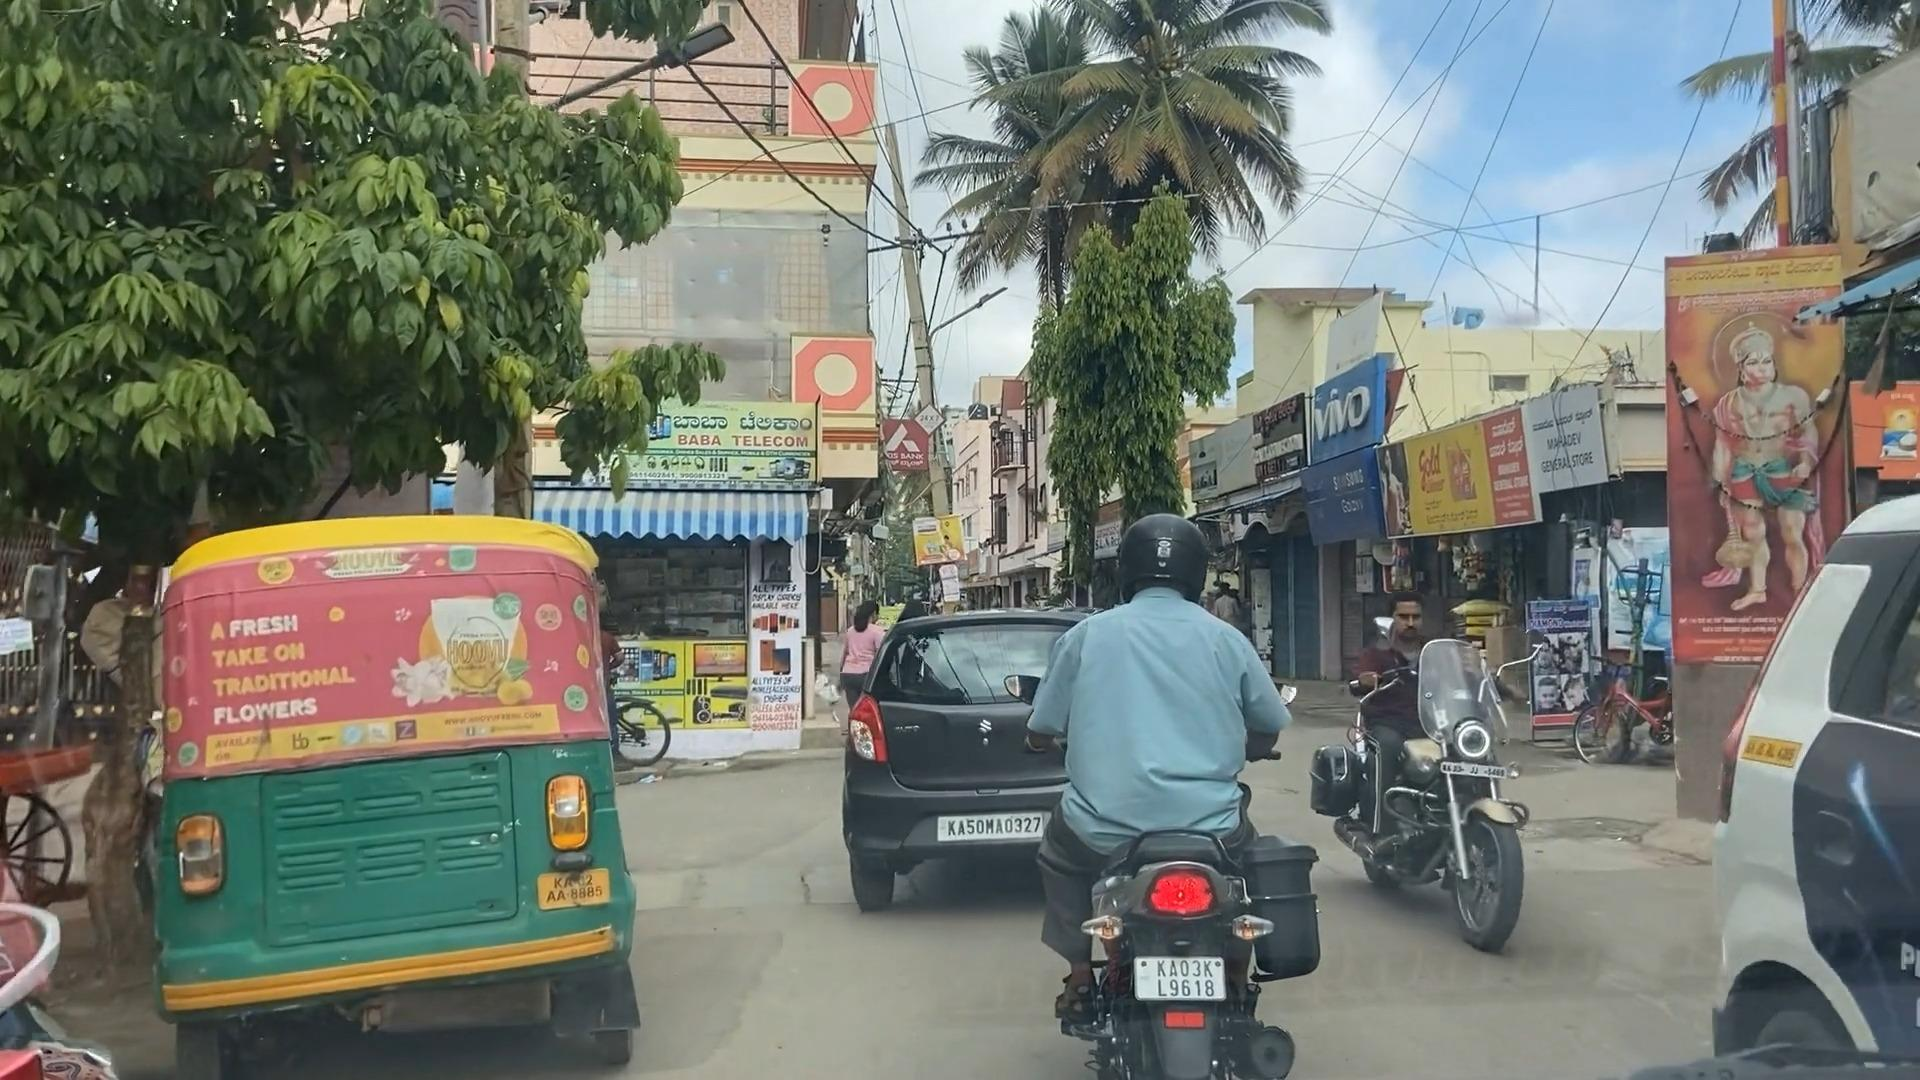LMV: (170, 533, 593, 1048), (1056, 516, 1275, 1080)
RoadDamages: (663, 911, 793, 1048), (665, 836, 782, 885), (800, 843, 847, 932)
